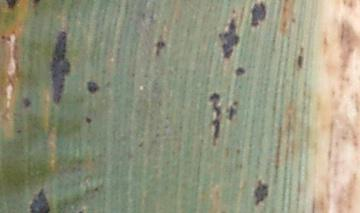tarspot: (51, 31, 71, 104), (219, 18, 240, 57), (208, 93, 222, 144), (30, 186, 50, 213), (249, 2, 267, 27), (253, 179, 268, 205), (86, 79, 100, 94), (225, 105, 238, 120), (154, 40, 165, 56), (295, 53, 303, 69), (234, 65, 245, 76), (22, 96, 31, 108), (297, 43, 306, 54), (5, 1, 17, 9), (288, 14, 297, 24), (231, 98, 239, 107), (84, 116, 92, 124), (92, 184, 100, 192), (230, 7, 237, 15), (137, 140, 144, 148), (235, 146, 241, 155), (15, 127, 22, 134), (31, 1, 40, 6), (1, 33, 7, 40)
